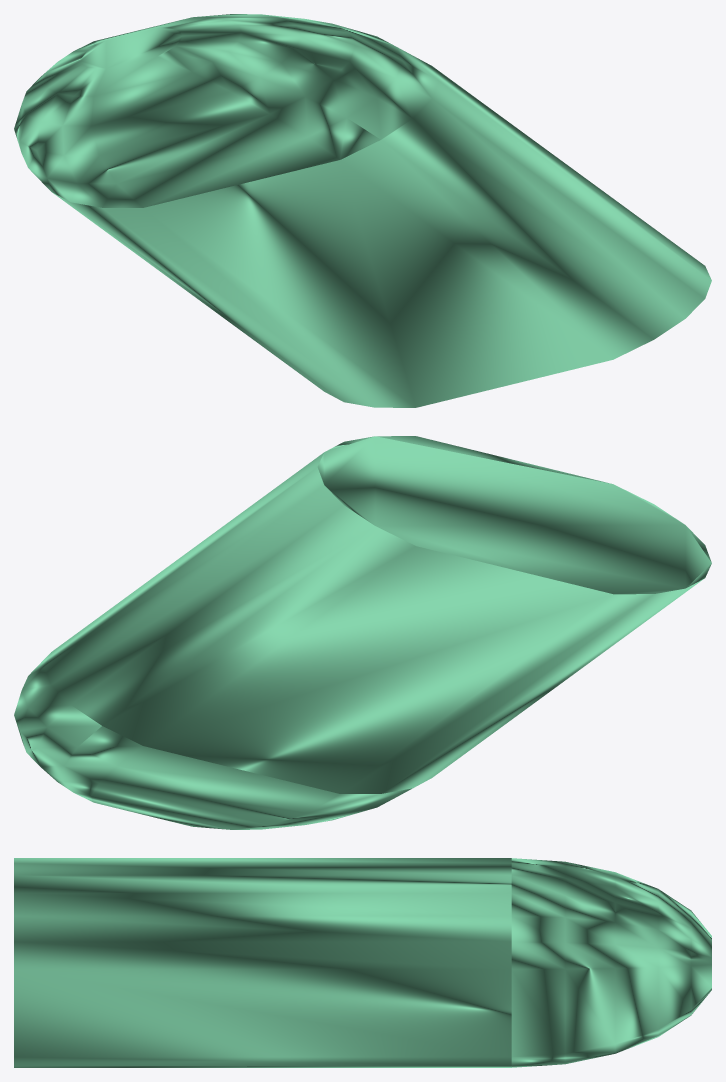
File: secdock_restricted_mesh_autopilot_zone.glb
3 views of the same model, one above another, from view 1: azimuth 30°, elevation 25°; view 2: azimuth 150°, elevation 25°; view 3: azimuth 270°, elevation 25° (orthographic). The views are drawn at different scales.
Size of the model in its own units: 850 by 227 by 1430.
